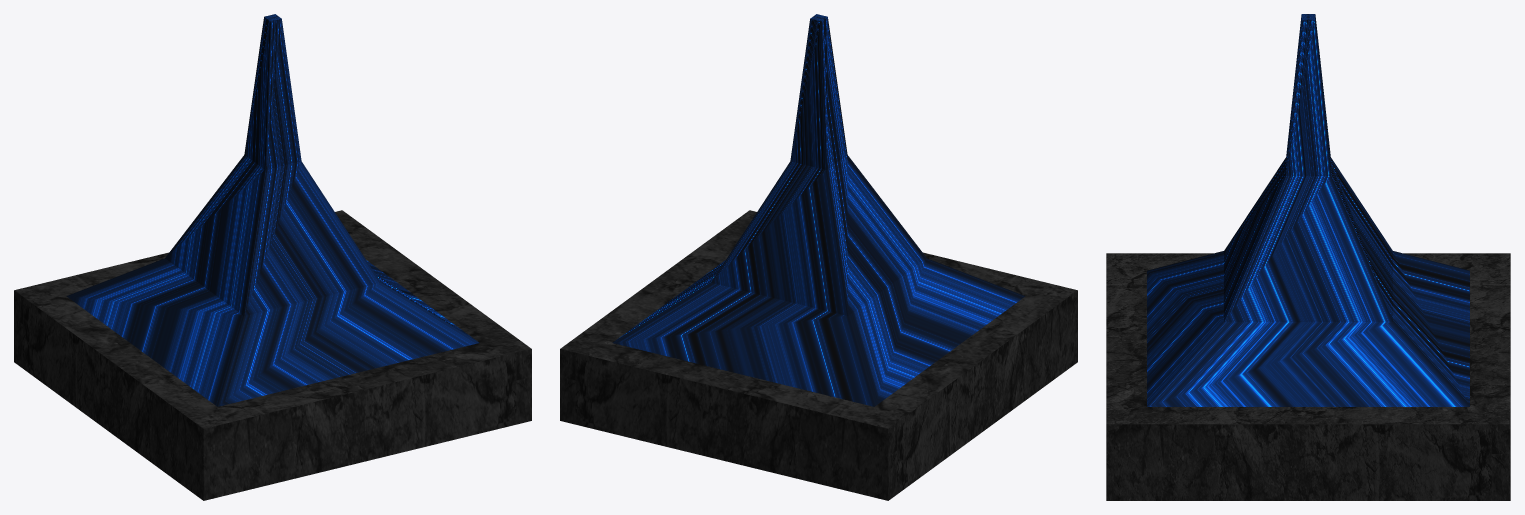
File: EmptySpace6.fbx
The picture shows the model from 3 angles, left to right: view 1: azimuth 30°, elevation 25°; view 2: azimuth 150°, elevation 25°; view 3: azimuth 270°, elevation 25°; orthographic projection. The views are drawn at different scales.
Visible parts, largest first — view 1: blankspace5; view 2: blankspace5; view 3: blankspace5.
Boxes of the visible parts, x1,y1,x2,y2 form: blankspace5: (14, 14, 531, 500); blankspace5: (560, 14, 1077, 500); blankspace5: (1106, 14, 1510, 500).
Bounding box in the file's own units: 100 × 109 × 100.
2 materials, 2 textured.
